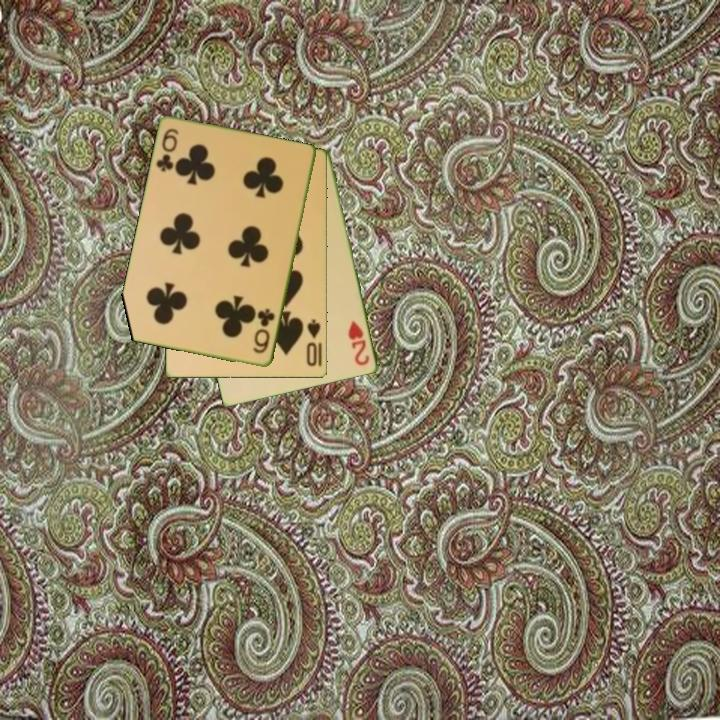10s: (303, 316, 324, 369)
2h: (345, 317, 373, 369)
6c: (250, 305, 278, 357), (153, 125, 181, 175)
